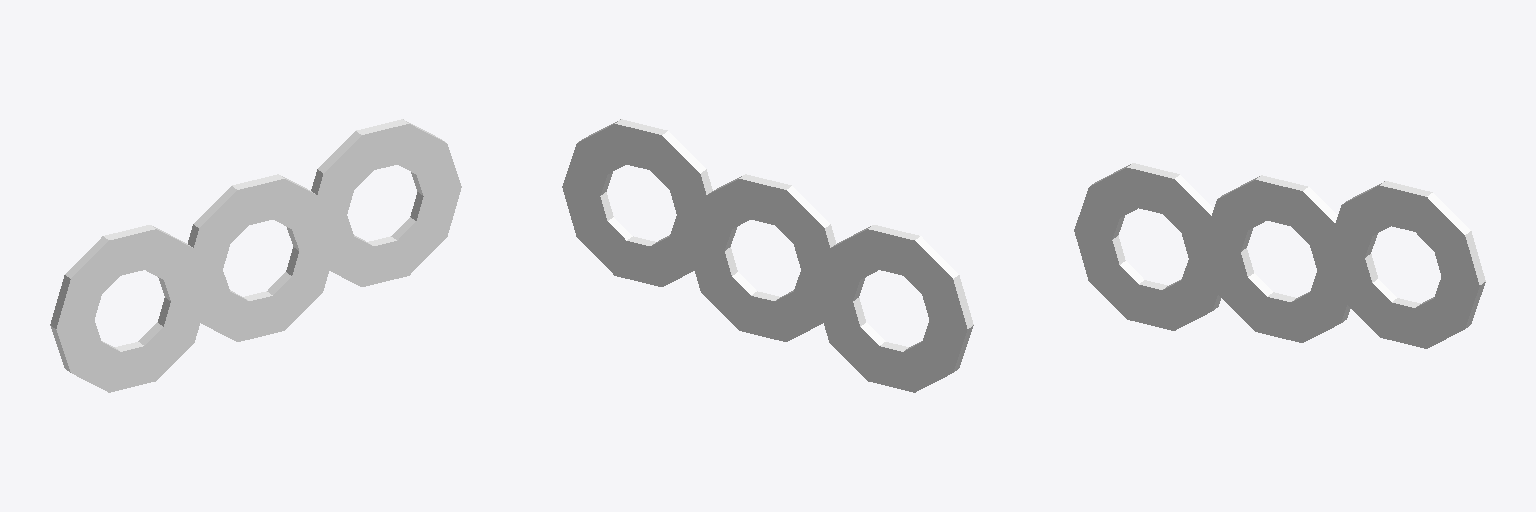
File: soda-rings.obj
3 views of the same model, side by side, from view 1: azimuth 30°, elevation 25°; view 2: azimuth 150°, elevation 25°; view 3: azimuth 330°, elevation 25° (orthographic).
Parts seen in each view (by area): view 1: 002_Default_StructuredGeometry_Name, 000_Default_StructuredGeometry_Name, 001_Default_StructuredGeometry_Name; view 2: 002_Default_StructuredGeometry_Name, 001_Default_StructuredGeometry_Name, 000_Default_StructuredGeometry_Name; view 3: 000_Default_StructuredGeometry_Name, 001_Default_StructuredGeometry_Name, 002_Default_StructuredGeometry_Name.
Boxes of the visible parts, x1=… form: 002_Default_StructuredGeometry_Name: x1=50, y1=225, x2=201, y2=392; 000_Default_StructuredGeometry_Name: x1=186, y1=174, x2=337, y2=341; 001_Default_StructuredGeometry_Name: x1=311, y1=119, x2=461, y2=286; 002_Default_StructuredGeometry_Name: x1=815, y1=225, x2=973, y2=392; 001_Default_StructuredGeometry_Name: x1=562, y1=119, x2=712, y2=286; 000_Default_StructuredGeometry_Name: x1=686, y1=174, x2=835, y2=341; 000_Default_StructuredGeometry_Name: x1=1203, y1=175, x2=1354, y2=342; 001_Default_StructuredGeometry_Name: x1=1335, y1=181, x2=1485, y2=348; 002_Default_StructuredGeometry_Name: x1=1074, y1=163, x2=1221, y2=330.
Bounding box in the file's own units: 265 × 122 × 7.